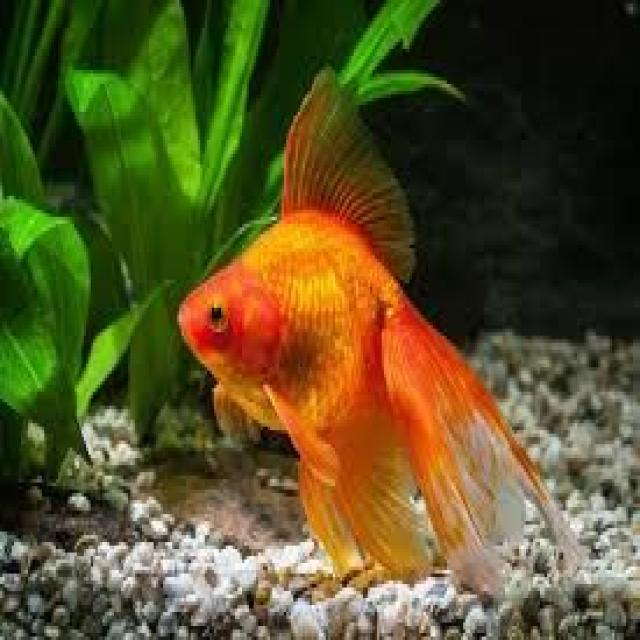Gold-Fish: (123, 50, 531, 562)
